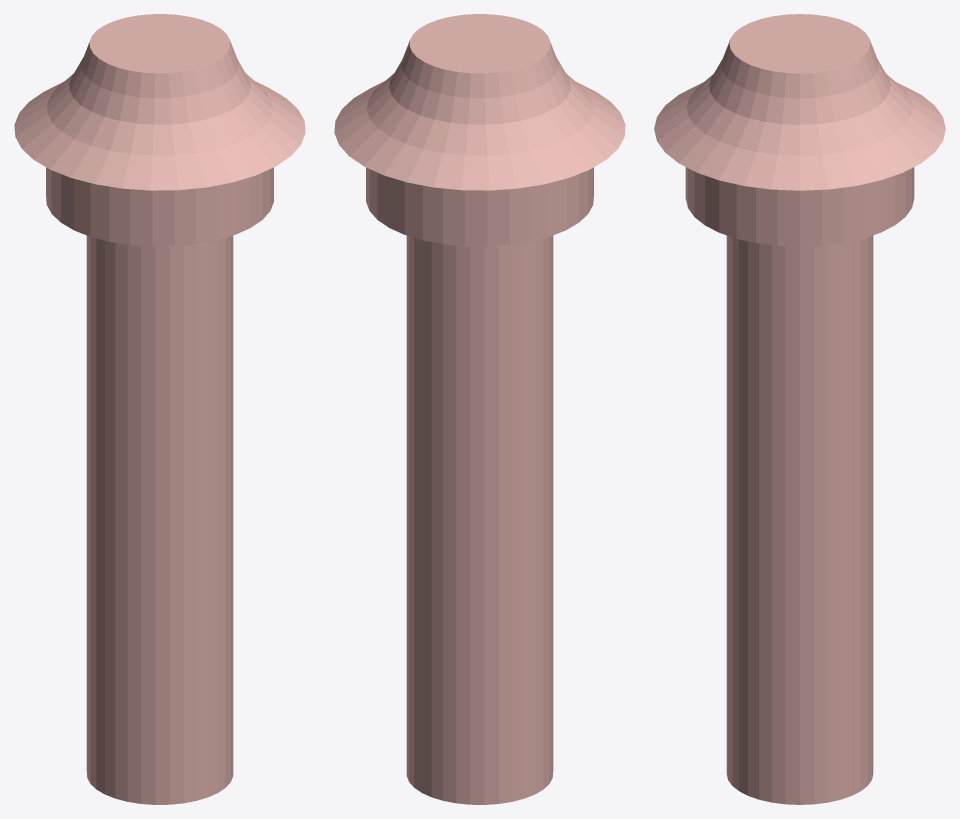
The model's file is Tower_Center.fbx.
The picture shows the model from 3 angles, left to right: view 1: azimuth 30°, elevation 25°; view 2: azimuth 150°, elevation 25°; view 3: azimuth 270°, elevation 25°; orthographic projection.
Parts seen in each view (by area): view 1: Center_Tower; view 2: Center_Tower; view 3: Center_Tower.
Part boxes in pixels (bbox=[...]): Center_Tower: bbox=[14, 14, 305, 804]; Center_Tower: bbox=[334, 14, 625, 804]; Center_Tower: bbox=[654, 14, 945, 804].
Size of the model in its own units: 2088 by 5767 by 2088.
